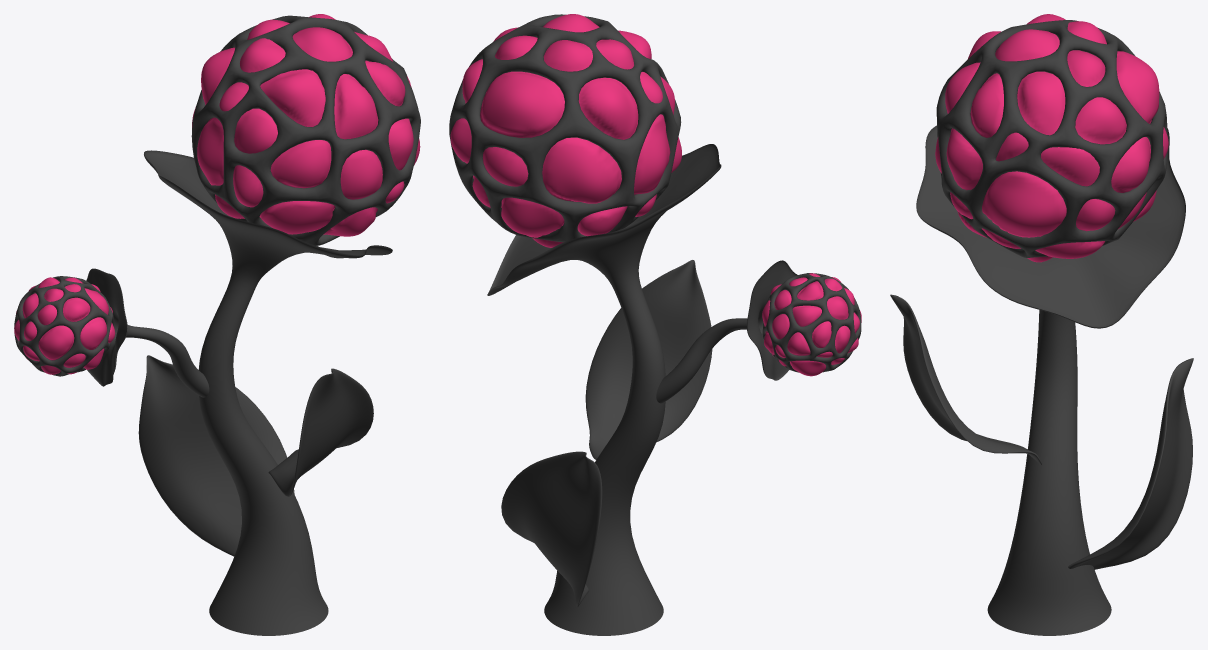
The model's file is MegaPlant#05.fbx.
3 renders of one model, left to right at view 1: azimuth 30°, elevation 25°; view 2: azimuth 150°, elevation 25°; view 3: azimuth 270°, elevation 25°, orthographic. The views are drawn at different scales.
Parts seen in each view (by area): view 1: Cylinder, Roundcube.001, Roundcube, Plane.002, Plane.001, Roundcube.002, Roundcube.003, Cylinder.001; view 2: Cylinder, Roundcube.001, Roundcube, Plane.001, Plane.002, Roundcube.002, Cylinder.001, Roundcube.003; view 3: Cylinder, Roundcube.001, Roundcube, Plane.002, Plane.001.
Boxes of the visible parts, left/top/right/bottom form: Cylinder: left=144, top=150, right=392, bottom=635; Roundcube.001: left=192, top=14, right=420, bottom=236; Roundcube: left=191, top=15, right=420, bottom=245; Plane.002: left=138, top=355, right=294, bottom=556; Plane.001: left=268, top=368, right=373, bottom=496; Roundcube.002: left=14, top=277, right=115, bottom=374; Roundcube.003: left=14, top=276, right=114, bottom=376; Cylinder.001: left=86, top=268, right=209, bottom=397; Cylinder: left=487, top=144, right=721, bottom=635; Roundcube.001: left=450, top=14, right=681, bottom=247; Roundcube: left=449, top=14, right=681, bottom=242; Plane.001: left=585, top=260, right=712, bottom=459; Plane.002: left=501, top=451, right=602, bottom=607; Roundcube.002: left=762, top=273, right=861, bottom=376; Cylinder.001: left=656, top=260, right=797, bottom=403; Roundcube.003: left=762, top=273, right=861, bottom=372; Cylinder: left=916, top=125, right=1185, bottom=635; Roundcube.001: left=935, top=14, right=1168, bottom=262; Roundcube: left=936, top=20, right=1167, bottom=257; Plane.002: left=1068, top=358, right=1193, bottom=569; Plane.001: left=890, top=294, right=1041, bottom=464.
Bounding box in the file's own units: 1552 × 2200 × 1011.
